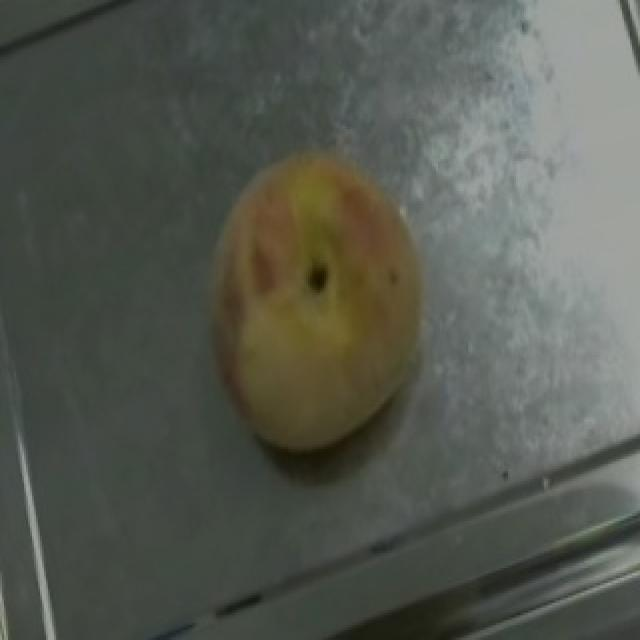Fruit: (162, 111, 480, 504)
